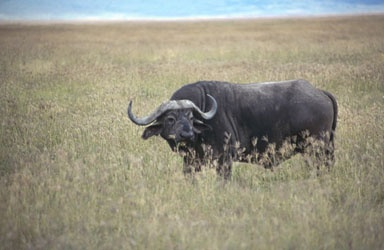buffalo: (125, 79, 340, 182)
